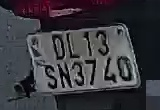0: (116, 54, 133, 84)
1: (82, 31, 95, 59)
3: (94, 30, 112, 58), (71, 62, 88, 88)
4: (101, 57, 118, 86)
7: (85, 58, 100, 87)
D: (50, 33, 67, 63)
L: (65, 32, 82, 61)
N: (58, 63, 75, 88)
S: (45, 64, 59, 92)
